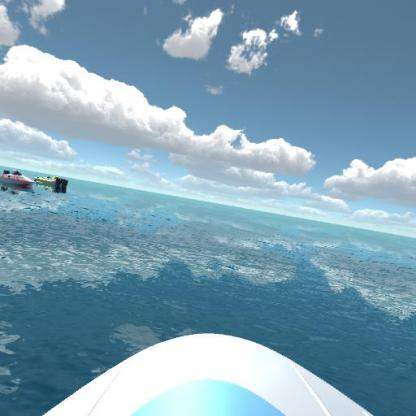usv2: (35, 170, 73, 193)
usv3: (0, 167, 35, 192)
